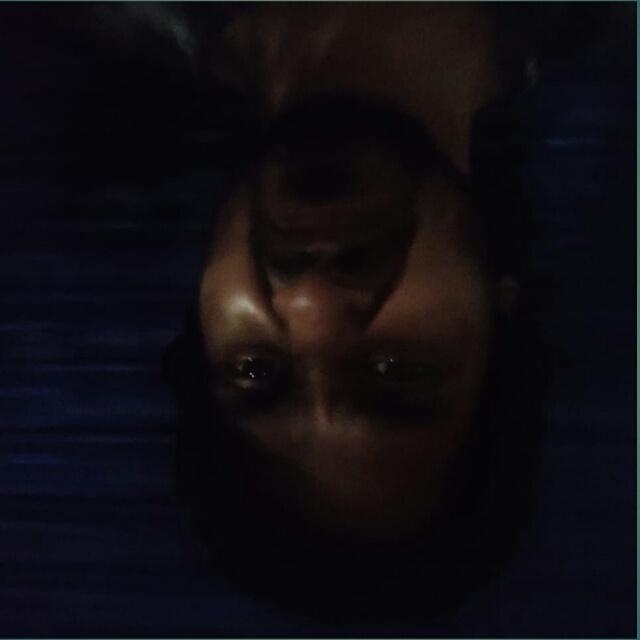Disgust: (123, 115, 550, 534)
